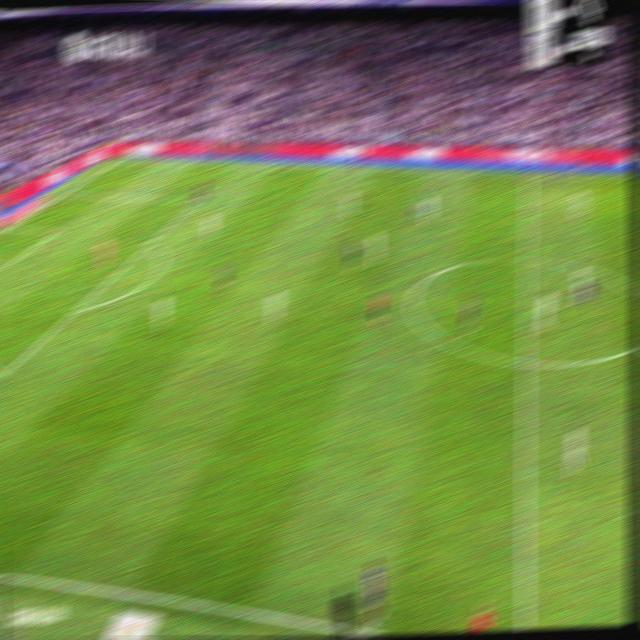bigarea_top_inner: (190, 195, 202, 205)
bottom_arc_area_intersection: (68, 303, 84, 316)
corner: (112, 154, 126, 162)
halfcircle_bottom: (516, 350, 534, 374)
halfcircle_top: (517, 249, 536, 268)
midline_top_intersection: (521, 170, 533, 180)
smallarea_top_inner: (50, 227, 60, 234)
top_arc_area_intersection: (144, 237, 155, 247)
